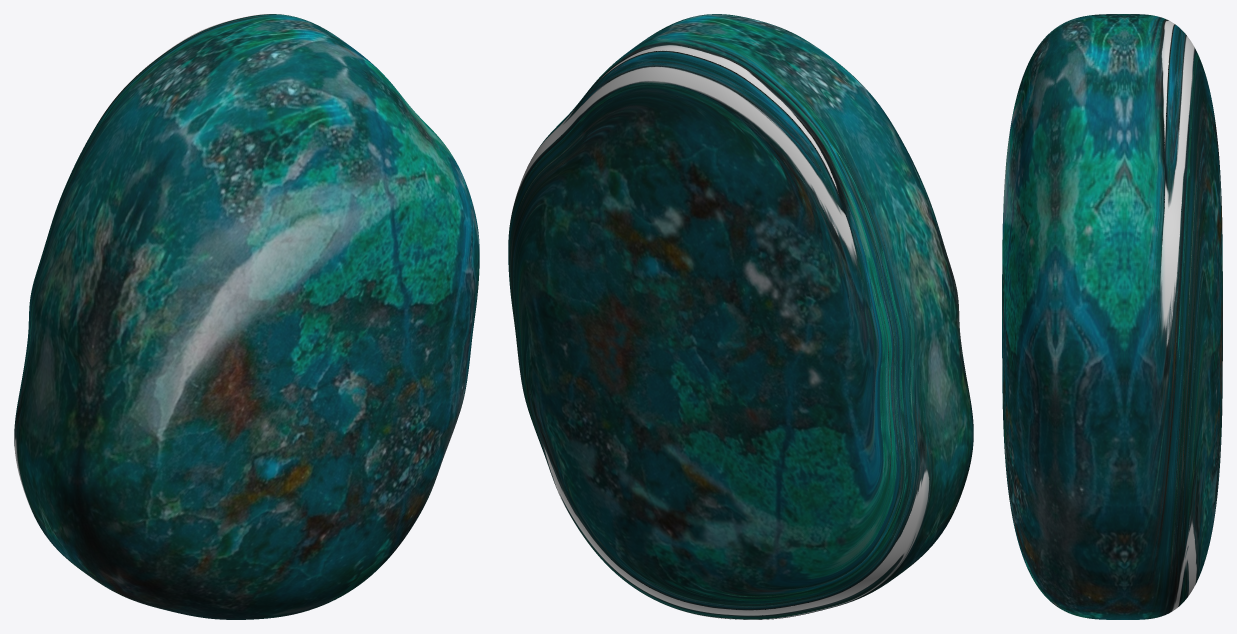
Rendered from chrysocolla_d_3d-model.glb.
3 renders of one model, left to right at view 1: azimuth 30°, elevation 25°; view 2: azimuth 150°, elevation 25°; view 3: azimuth 270°, elevation 25°, orthographic.
Visible parts, largest first — view 1: chrysocolla_d; view 2: chrysocolla_d; view 3: chrysocolla_d.
Boxes of the visible parts, left/top/right/bottom form: chrysocolla_d: left=14, top=14, right=479, bottom=619; chrysocolla_d: left=508, top=14, right=973, bottom=619; chrysocolla_d: left=1002, top=14, right=1222, bottom=619.
Size of the model in its own units: 0.0262 by 0.034 by 0.012.
1 material, 1 textured.
